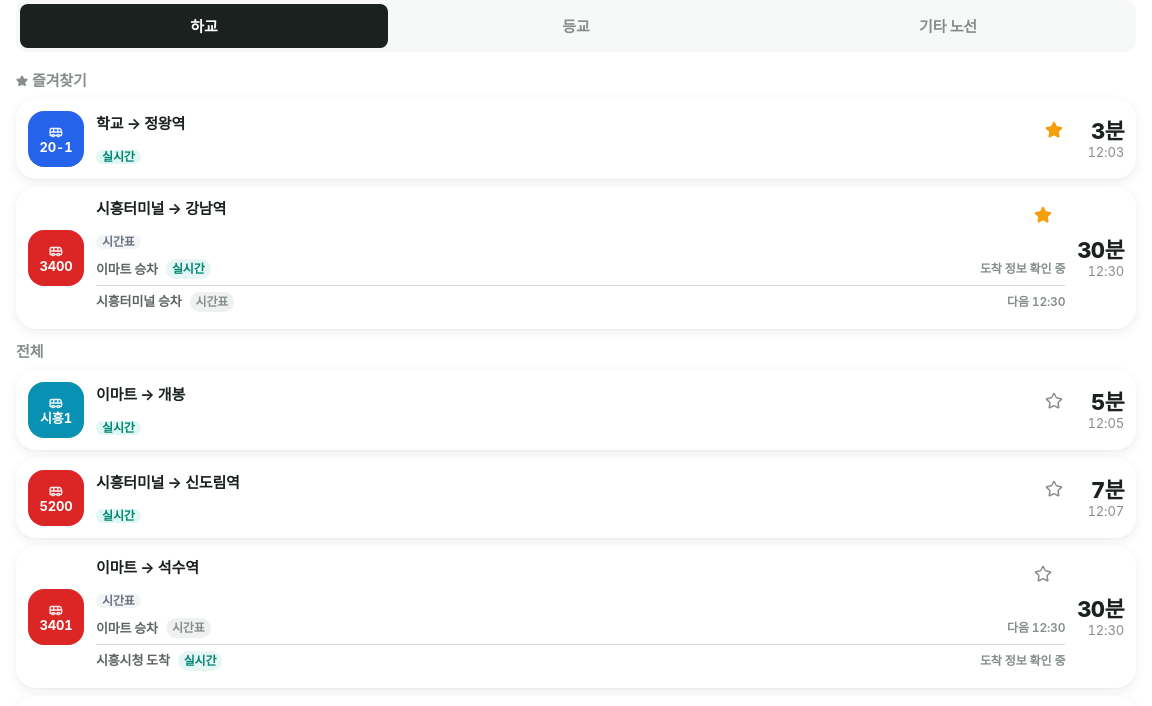
Test: SchedulePage — PC 홈 embedded(좁은 도킹 패널) 레이아웃 › embedded+데스크톱에서 노선을 클릭하면 목록 대신 상세로 전환되고(드릴다운), 닫으면 목록으로 되돌아간다
The width and height of the screenshot is (1152, 706).
Check: the tab "하교" is shown, box [20,4,388,48]
Click the text "20-1": (56,139) [28,111,84,167]
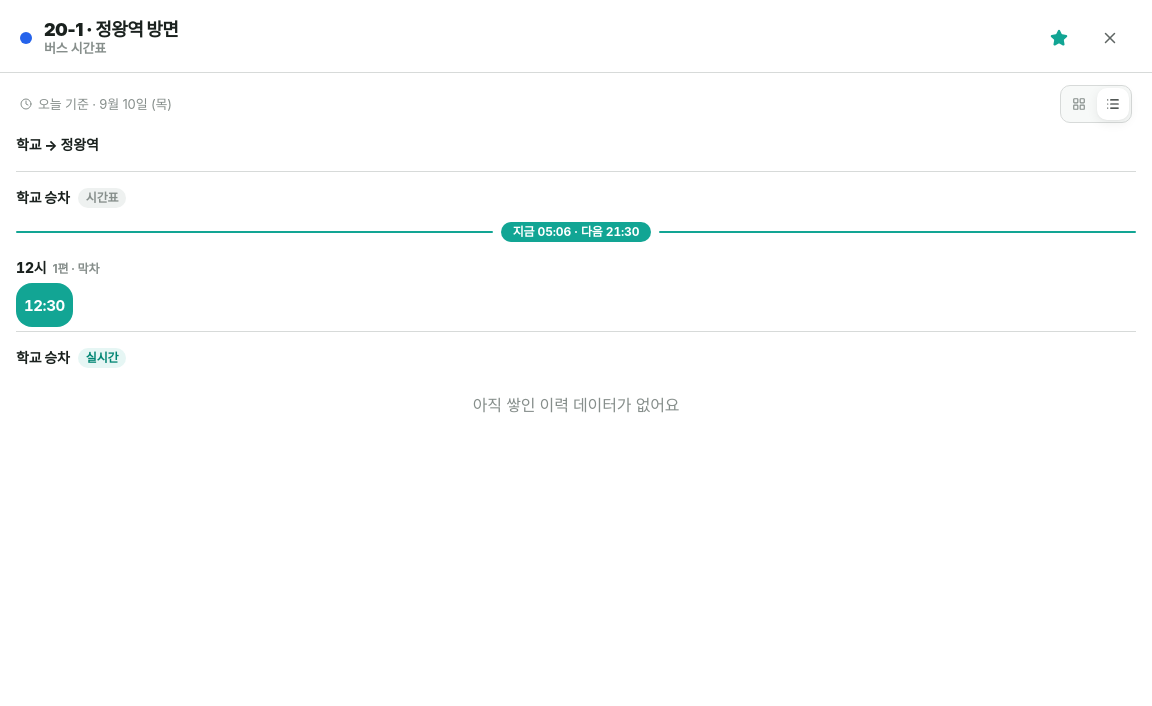
Check: the tab "하교" is gone
Check: the button named "닫기" is shown
Click the button named "닫기": (1110,38) [1088,16,1132,60]
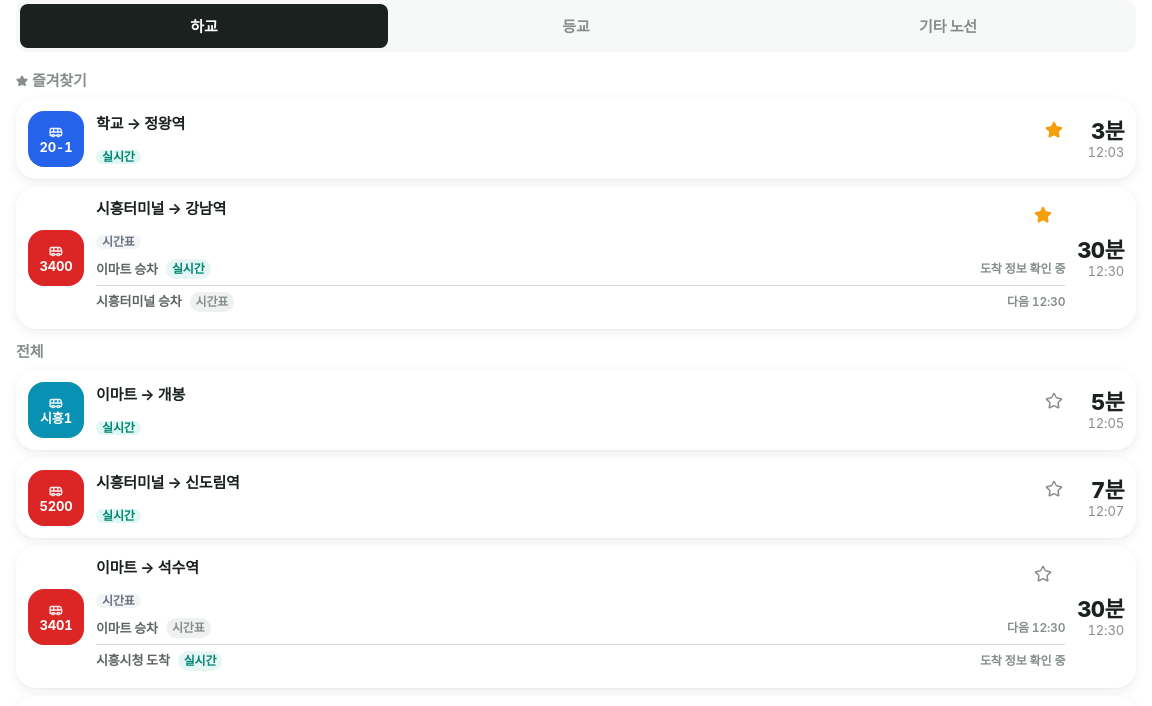
Check: the tab "하교" is shown, box [20,4,388,48]
